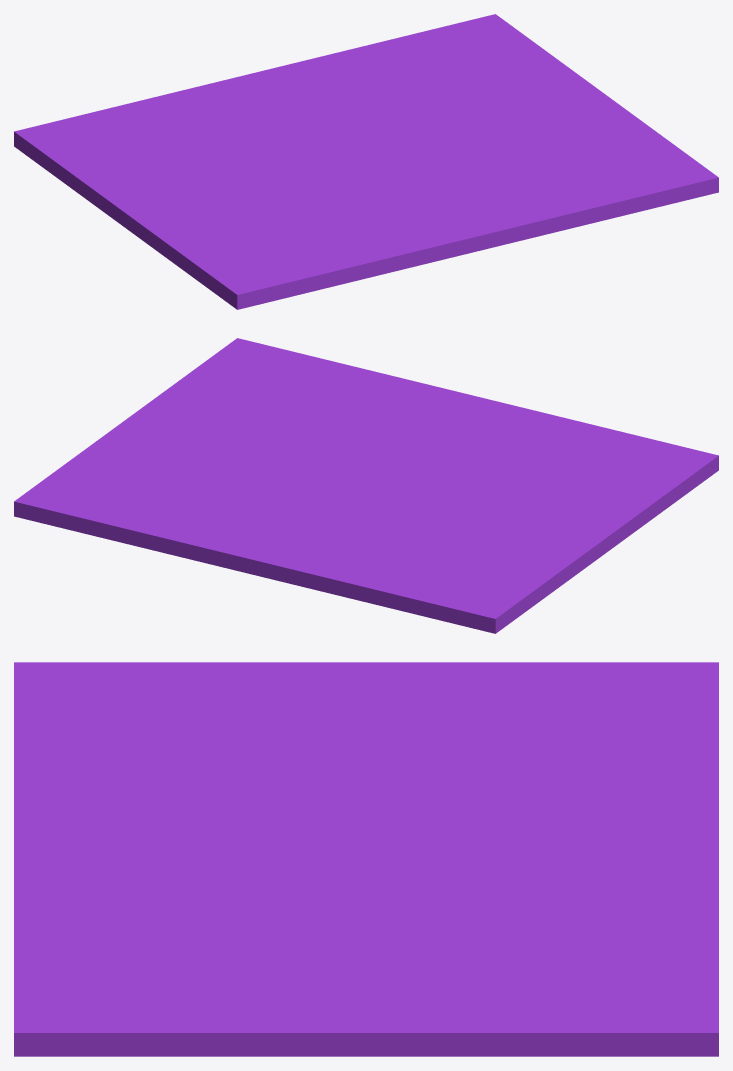
The model's file is Platform_14_chunks.fbx.
3 renders of one model, top to bottom at view 1: azimuth 30°, elevation 25°; view 2: azimuth 150°, elevation 25°; view 3: azimuth 270°, elevation 25°, orthographic. The views are drawn at different scales.
Parts seen in each view (by area): view 1: Platform_14_3, Platform_14_10, Platform_14_2, Platform_14_11, Platform_14_13, Platform_14_8, Platform_14_16, Platform_14_0, Platform_14_14, Platform_14_21, Platform_14_15, Platform_14_19 (+3 smaller); view 2: Platform_14_10, Platform_14_3, Platform_14_11, Platform_14_2, Platform_14_13, Platform_14_8, Platform_14_16, Platform_14_0, Platform_14_21, Platform_14_14, Platform_14_19, Platform_14_15 (+2 smaller); view 3: Platform_14_10, Platform_14_3, Platform_14_2, Platform_14_11, Platform_14_13, Platform_14_16, Platform_14_8, Platform_14_0, Platform_14_21, Platform_14_14, Platform_14_15, Platform_14_19 (+2 smaller).
Part boxes in pixels (x1,y1,x2,y2): Platform_14_3: (318,155,620,253); Platform_14_10: (329,14,576,120); Platform_14_2: (142,210,415,309); Platform_14_11: (14,100,209,217); Platform_14_13: (143,54,359,135); Platform_14_8: (353,111,539,186); Platform_14_16: (528,73,686,153); Platform_14_0: (128,161,347,241); Platform_14_14: (518,144,647,211); Platform_14_21: (236,127,370,184); Platform_14_15: (603,151,718,216); Platform_14_19: (120,156,248,222); Platform_14_10: (14,442,284,558); Platform_14_3: (335,362,529,481); Platform_14_11: (366,540,603,633); Platform_14_2: (505,412,718,537); Platform_14_13: (180,494,406,603); Platform_14_8: (240,399,365,504); Platform_14_16: (95,361,246,447); Platform_14_0: (389,468,625,547); Platform_14_21: (315,476,483,521); Platform_14_14: (242,355,344,418); Platform_14_19: (450,505,611,549); Platform_14_15: (205,338,307,393); Platform_14_10: (384,874,718,1056); Platform_14_3: (14,776,359,957); Platform_14_2: (14,662,314,799); Platform_14_11: (378,662,718,771); Platform_14_13: (459,761,718,904); Platform_14_16: (115,970,466,1056); Platform_14_8: (127,850,515,940); Platform_14_0: (225,662,358,831); Platform_14_21: (355,759,491,864); Platform_14_14: (14,922,240,986); Platform_14_15: (14,978,190,1056); Platform_14_19: (351,662,502,765).
Bounding box in the file's own units: 1009 × 29.87 × 810.
